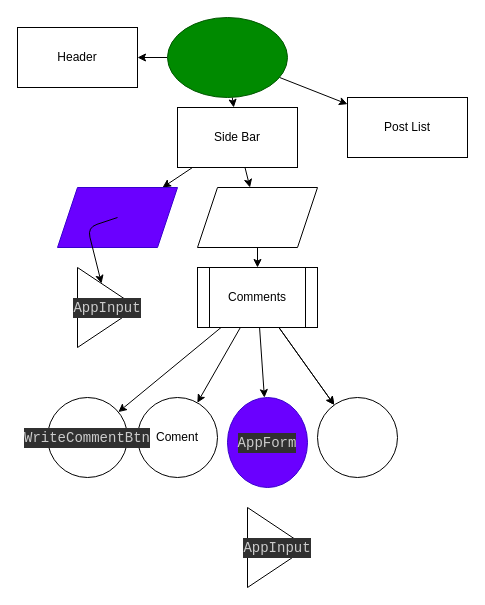
This 485x605 diagram has some shape labels left out. Each missing label, with the centre of its shape:
"Form" goes at (x=117, y=217).
"Home Page" goes at (x=227, y=57).
"NoComments" goes at (x=357, y=437).
"Previev" goes at (x=257, y=217).
